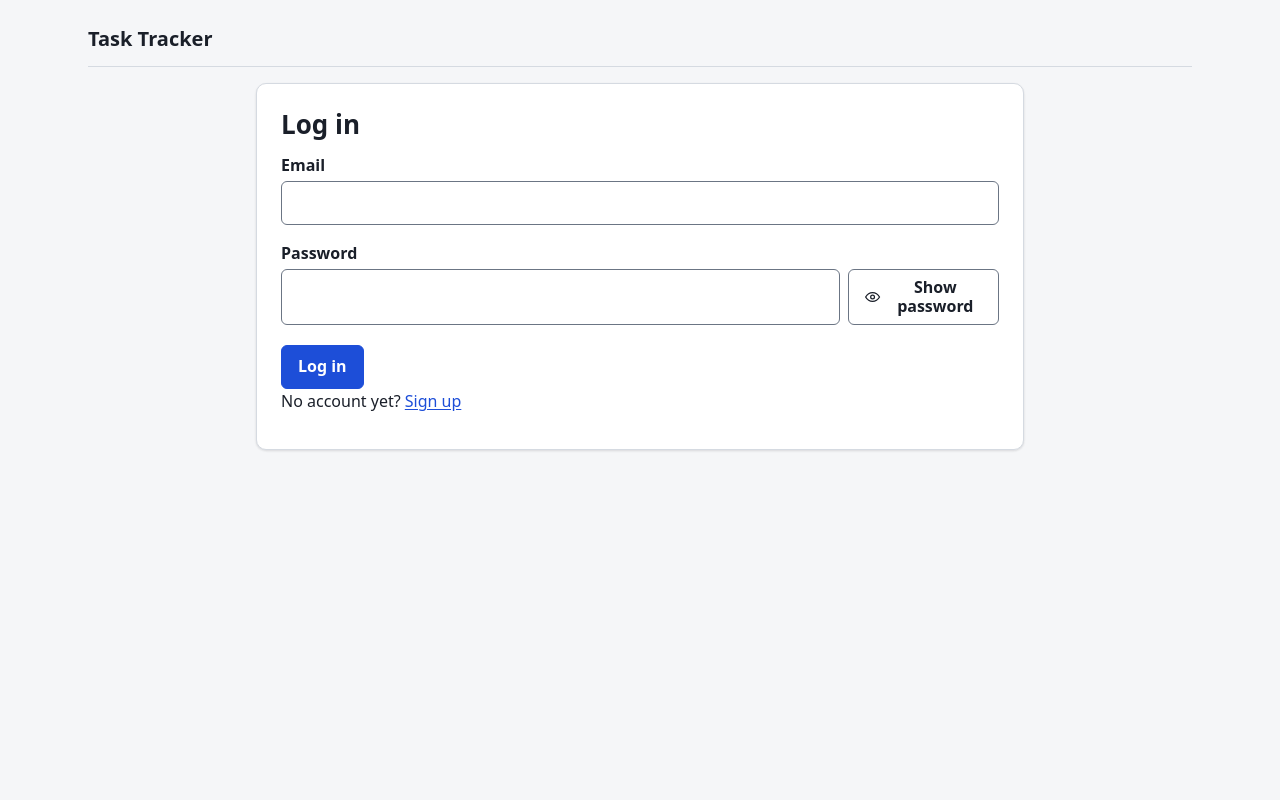
Test: protected routes and "from" › only a path inside the app is allowed (open-redirect guard)
Type "alice@example.com" into the field labelled "Email" at (640, 202), box [281,180,999,224]
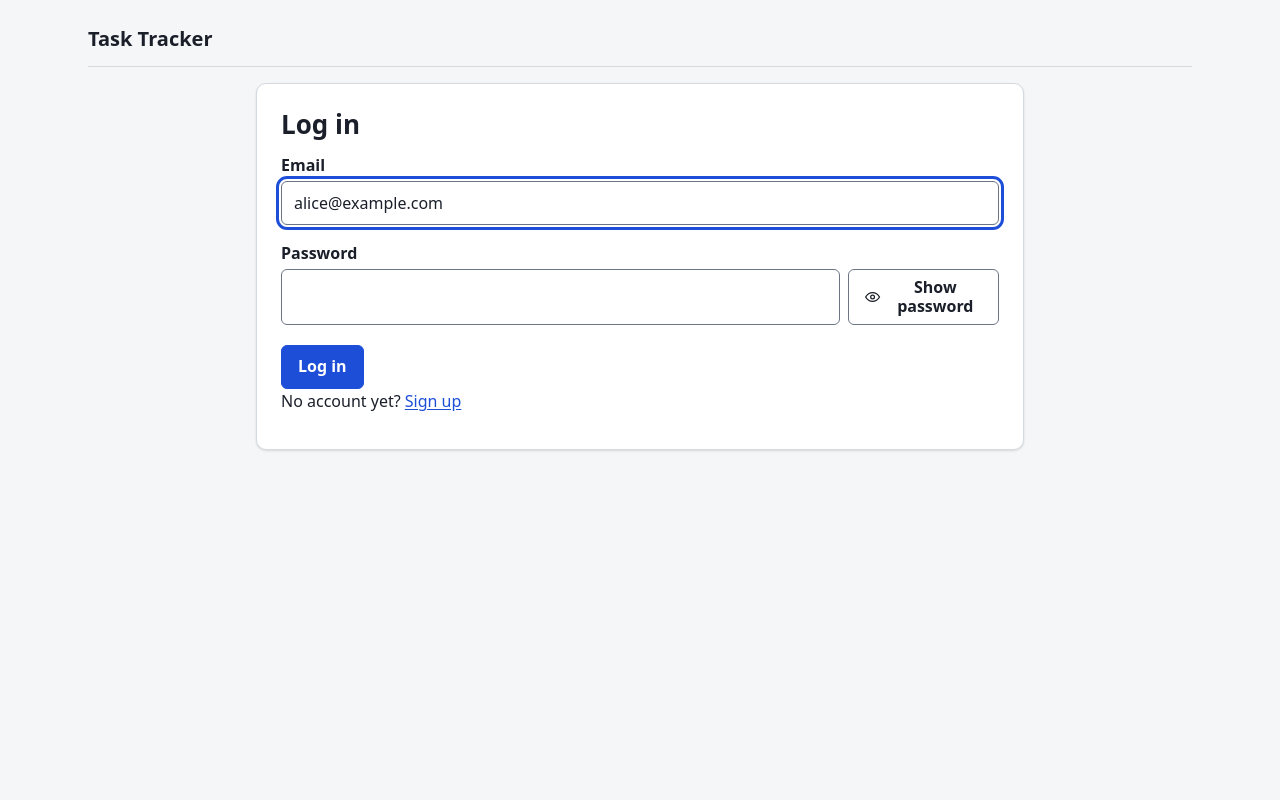
Type "DemoPass123" into the password field labelled "Password" at (561, 297), box [281,268,840,325]
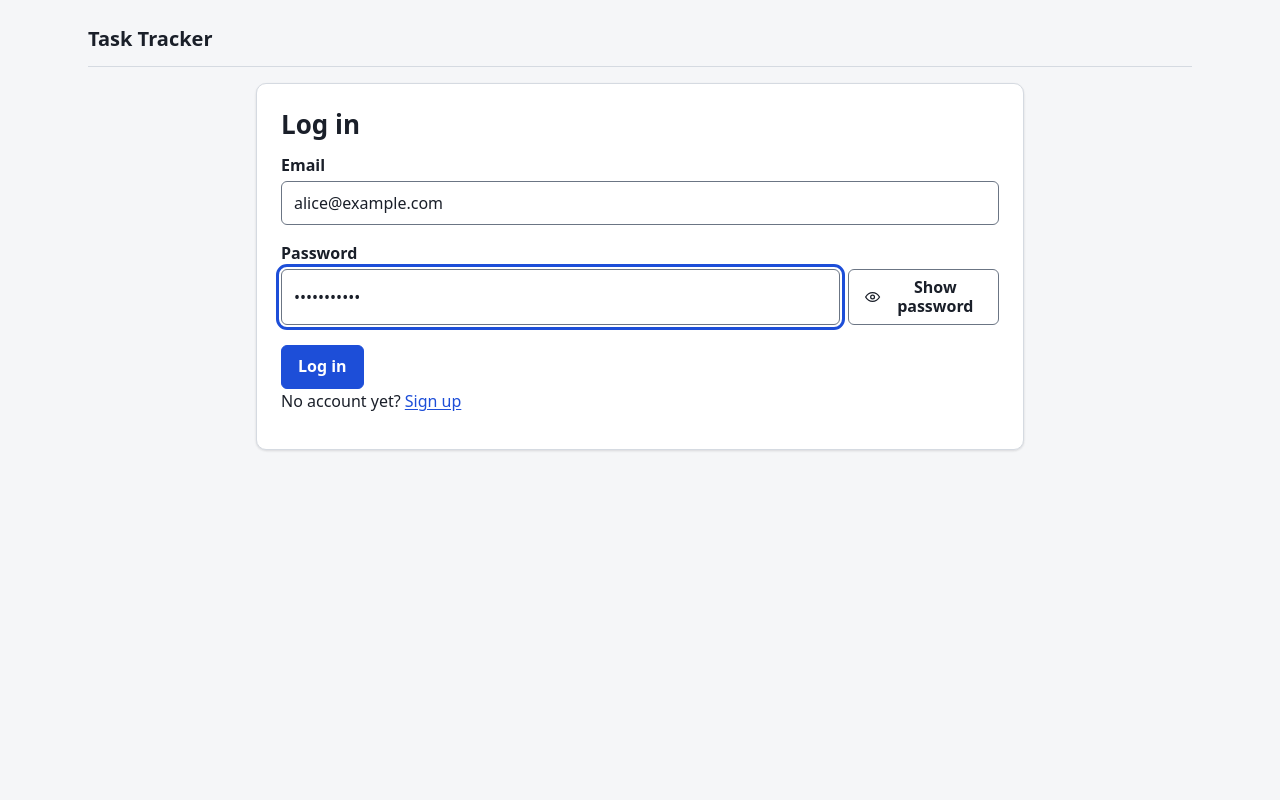
Click the button "Log in" at (322, 367), box [281,345,364,389]
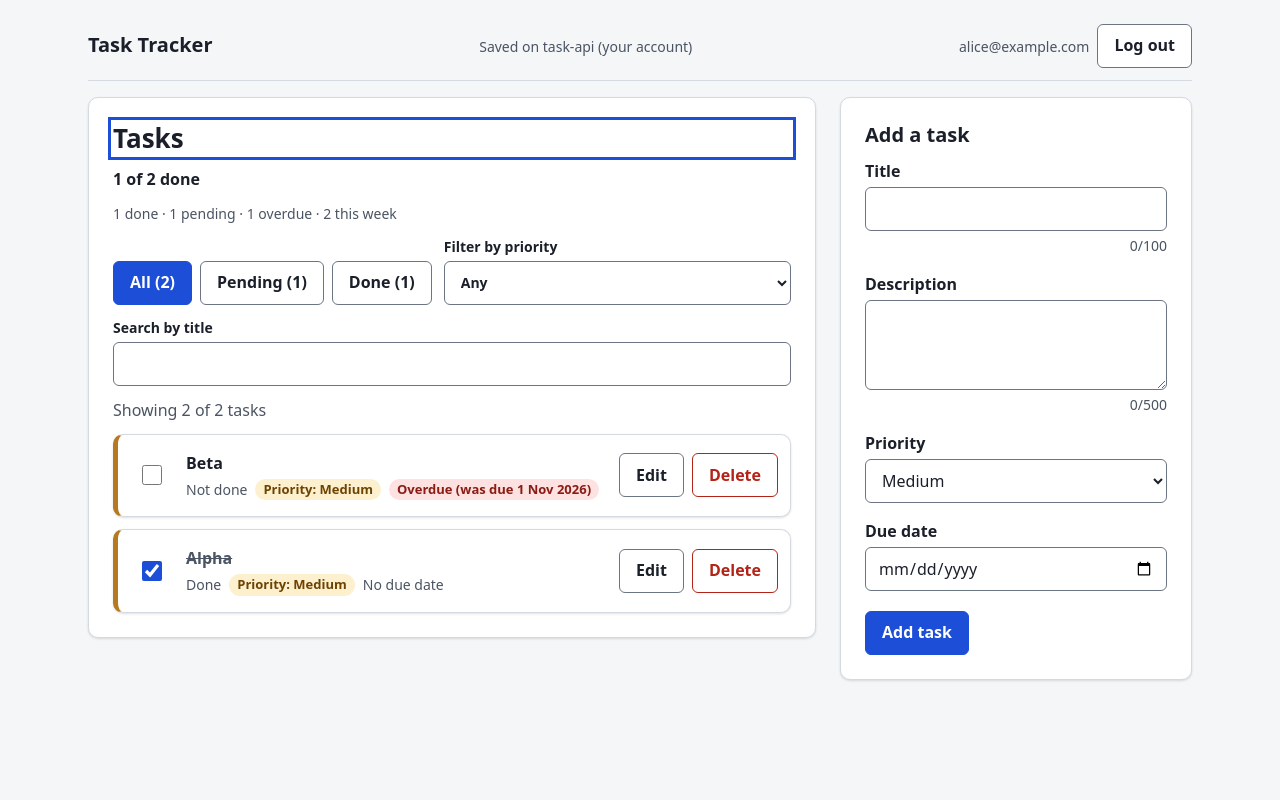
Expected: the heading "Tasks" is shown, [113,120,184,156]
